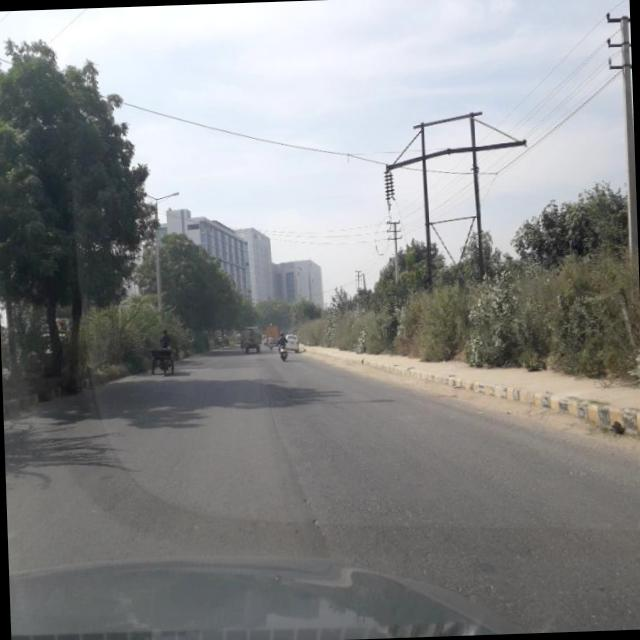pothole: (278, 438, 328, 543)
